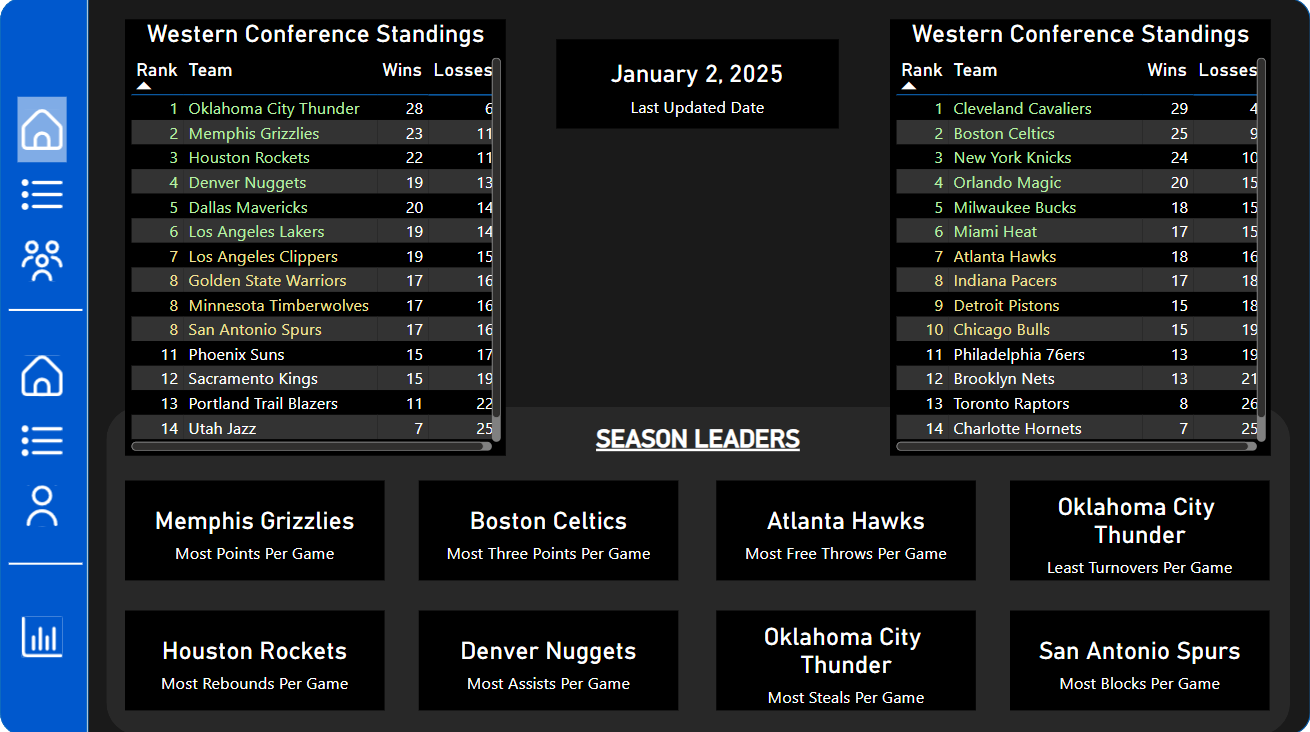

Layout of this report page (visuals, bound fields, positions):
{"tool":"powerbi","page":{"name":"Team Stats Overview","canvas":[1280,720],"ordinal":0},"visuals":[{"type":"shape","box":[85,0,1195,720],"z":0},{"type":"card","fields":{"Values":["Min(game_result.team)"]},"box":[122.5,471.2,253.8,97.5],"z":0,"group":"g1"},{"type":"shape","box":[0,0,85,720],"z":1000},{"type":"card","fields":{"Values":["Min(game_result.team)"]},"box":[122.5,598.7,253.8,97.5],"z":1000,"group":"g1"},{"type":"shape","box":[103.3,398.9,1156.7,321.1],"z":2000},{"type":"card","fields":{"Values":["Min(game_result.team)"]},"box":[410,471.2,253.8,97.5],"z":2000,"group":"g1"},{"type":"tableEx","title":"Western Conference Standings","fields":{"Values":["Sum(records.Rank Within Conference)","records.Team","Sum(records.Total Wins)","Sum(records.Total Losses)"]},"box":[122.2,21.1,372.2,426.7],"z":3000},{"type":"card","fields":{"Values":["Min(game_result.team)"]},"box":[987.5,598.7,253.8,97.5],"z":3000,"group":"g1"},{"type":"card","fields":{"Values":["Max(game_result.date)"]},"box":[543.8,40,276.2,87.5],"z":4000},{"type":"card","fields":{"Values":["Min(game_result.team)"]},"box":[410,598.7,253.8,97.5],"z":4000,"group":"g1"},{"type":"group","id":"g1","title":"Group 1","box":[122.5,471.2,1118.8,225],"z":5000},{"type":"card","fields":{"Values":["Min(game_result.team)"]},"box":[700,471.2,253.8,97.5],"z":5000,"group":"g1"},{"type":"textbox","box":[531.2,411.2,301.2,48.8],"z":6000},{"type":"card","fields":{"Values":["Min(game_result.team)"]},"box":[700,598.7,253.8,97.5],"z":6000,"group":"g1"},{"type":"card","fields":{"Values":["Min(game_result.team)"]},"box":[987.5,471.2,253.8,97.5],"z":7000,"group":"g1"},{"type":"tableEx","title":"Western Conference Standings","fields":{"Values":["Sum(records.Rank Within Conference)","records.Team","Sum(records.Total Wins)","Sum(records.Total Losses)"]},"box":[868.9,21.1,372.2,426.7],"z":8000}]}

Visuals, with their boxes on the page's 1280x720 design canvas (x1, y1, x2, y2). These are canvas units, not pixel positions in the 1310x732 screenshot, which may show the page scaled, cropped or inside an application window:
shape: bbox=(85, 0, 1280, 720)
card - Min(game_result.team): bbox=(122, 471, 376, 569)
shape: bbox=(0, 0, 85, 720)
card - Min(game_result.team): bbox=(122, 599, 376, 696)
shape: bbox=(103, 399, 1260, 720)
card - Min(game_result.team): bbox=(410, 471, 664, 569)
"Western Conference Standings" tableEx: bbox=(122, 21, 494, 448)
card - Min(game_result.team): bbox=(988, 599, 1241, 696)
card - Max(game_result.date): bbox=(544, 40, 820, 128)
card - Min(game_result.team): bbox=(410, 599, 664, 696)
"Group 1" group: bbox=(122, 471, 1241, 696)
card - Min(game_result.team): bbox=(700, 471, 954, 569)
textbox: bbox=(531, 411, 832, 460)
card - Min(game_result.team): bbox=(700, 599, 954, 696)
card - Min(game_result.team): bbox=(988, 471, 1241, 569)
"Western Conference Standings" tableEx: bbox=(869, 21, 1241, 448)
